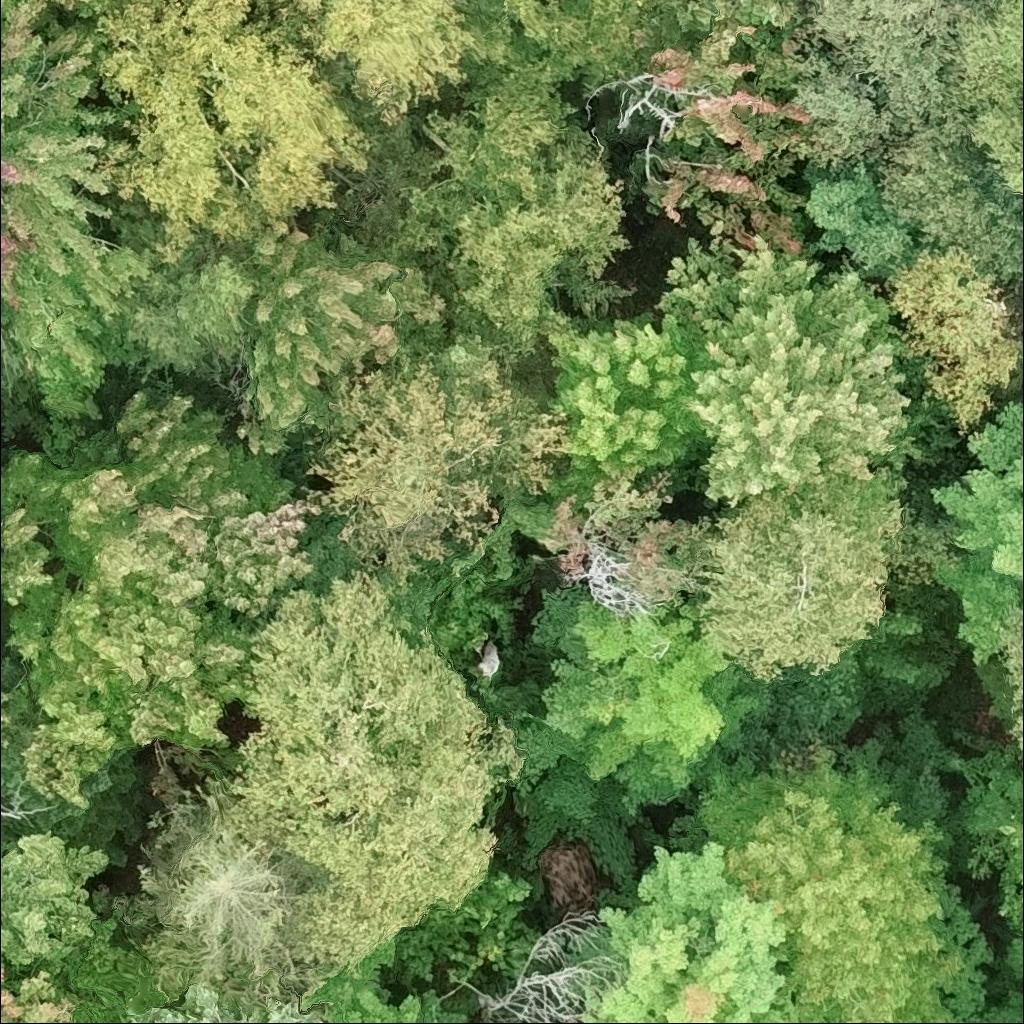crown: (0, 375, 318, 818), (207, 561, 526, 995), (664, 738, 994, 1023), (499, 576, 780, 881), (653, 218, 938, 507), (383, 61, 640, 366), (89, 0, 374, 265), (782, 0, 1023, 277), (298, 346, 569, 590), (0, 0, 155, 424), (677, 462, 948, 685), (640, 0, 813, 254), (232, 216, 409, 456), (578, 836, 792, 1023), (255, 0, 490, 127), (141, 793, 299, 977), (541, 308, 709, 476), (884, 235, 1023, 438), (923, 392, 1023, 665), (773, 159, 920, 290), (947, 730, 1023, 982), (473, 904, 626, 1023), (388, 866, 537, 983), (0, 826, 114, 977), (462, 0, 649, 89), (943, 0, 1023, 198), (302, 938, 470, 1023), (126, 981, 322, 1023), (0, 961, 74, 1023), (997, 593, 1023, 757), (981, 989, 1023, 1023), (49, 0, 122, 18), (956, 1010, 981, 1023), (823, 1022, 830, 1023)
